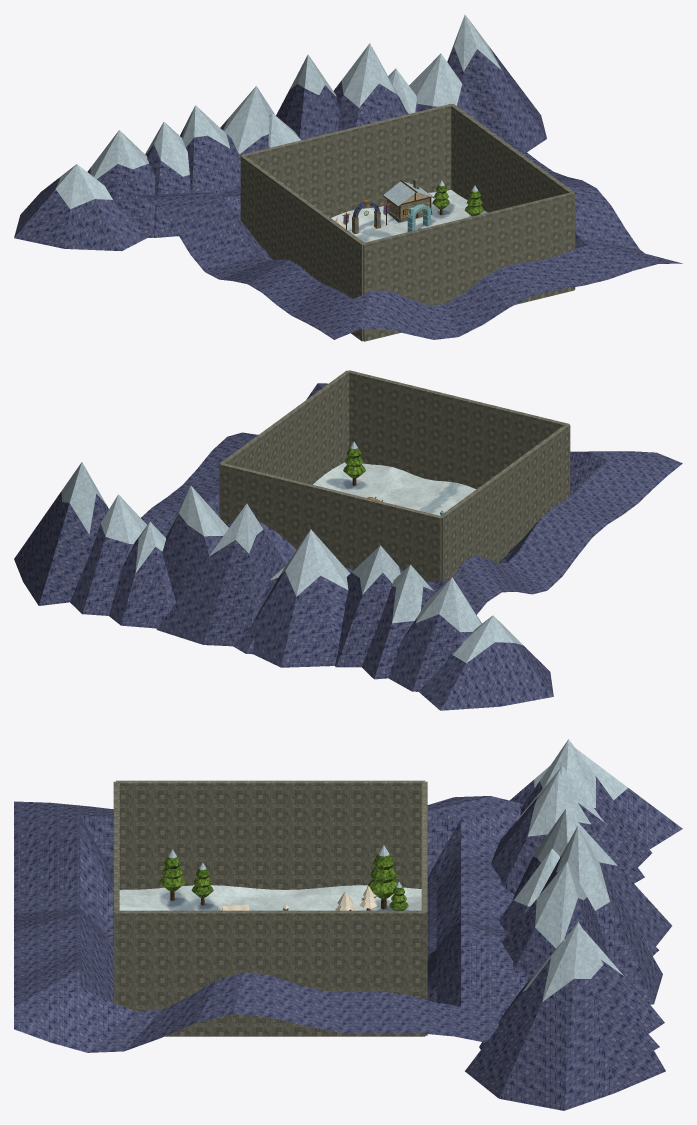
The model's file is RimePost-b2c2ee65022a.glb.
3 views of the same model, one above another, from view 1: azimuth 30°, elevation 25°; view 2: azimuth 150°, elevation 25°; view 3: azimuth 270°, elevation 25° (orthographic). The views are drawn at different scales.
Visible parts, largest first — view 1: Rim, C_Solids, Set, Terrain; view 2: Rim, C_Solids, Terrain, Set; view 3: Rim, C_Solids, Terrain, Set.
Part boxes in pixels (x1,y1,x2,y2): Rim: (14,14,682,339); C_Solids: (240,103,575,341); Set: (335,178,483,240); Terrain: (331,189,487,242); Rim: (14,383,682,710); C_Solids: (219,370,570,581); Terrain: (313,462,475,515); Set: (343,441,382,501); Rim: (14,739,682,1110); C_Solids: (113,780,427,1036); Terrain: (119,885,421,910); Set: (159,845,408,910).
Size of the model in its own units: 102 by 23.28 by 88.63.
15 materials, 15 textured.
